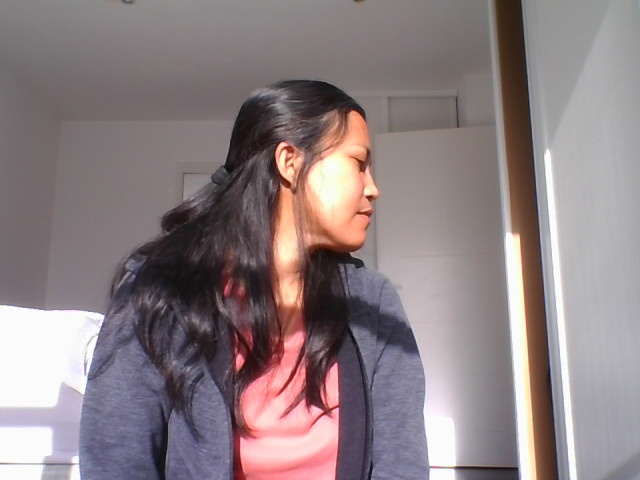face: (236, 80, 380, 256)
